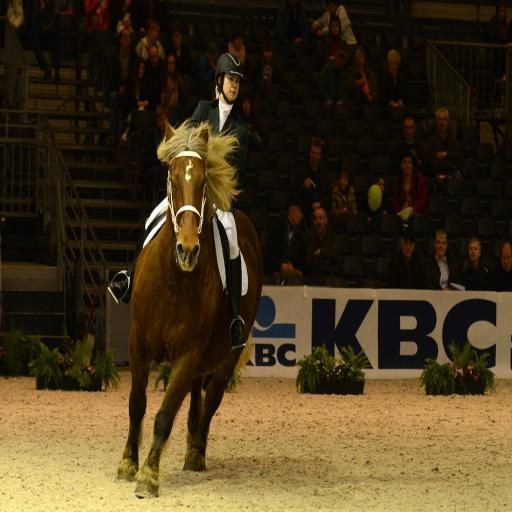horse: (115, 116, 266, 496)
